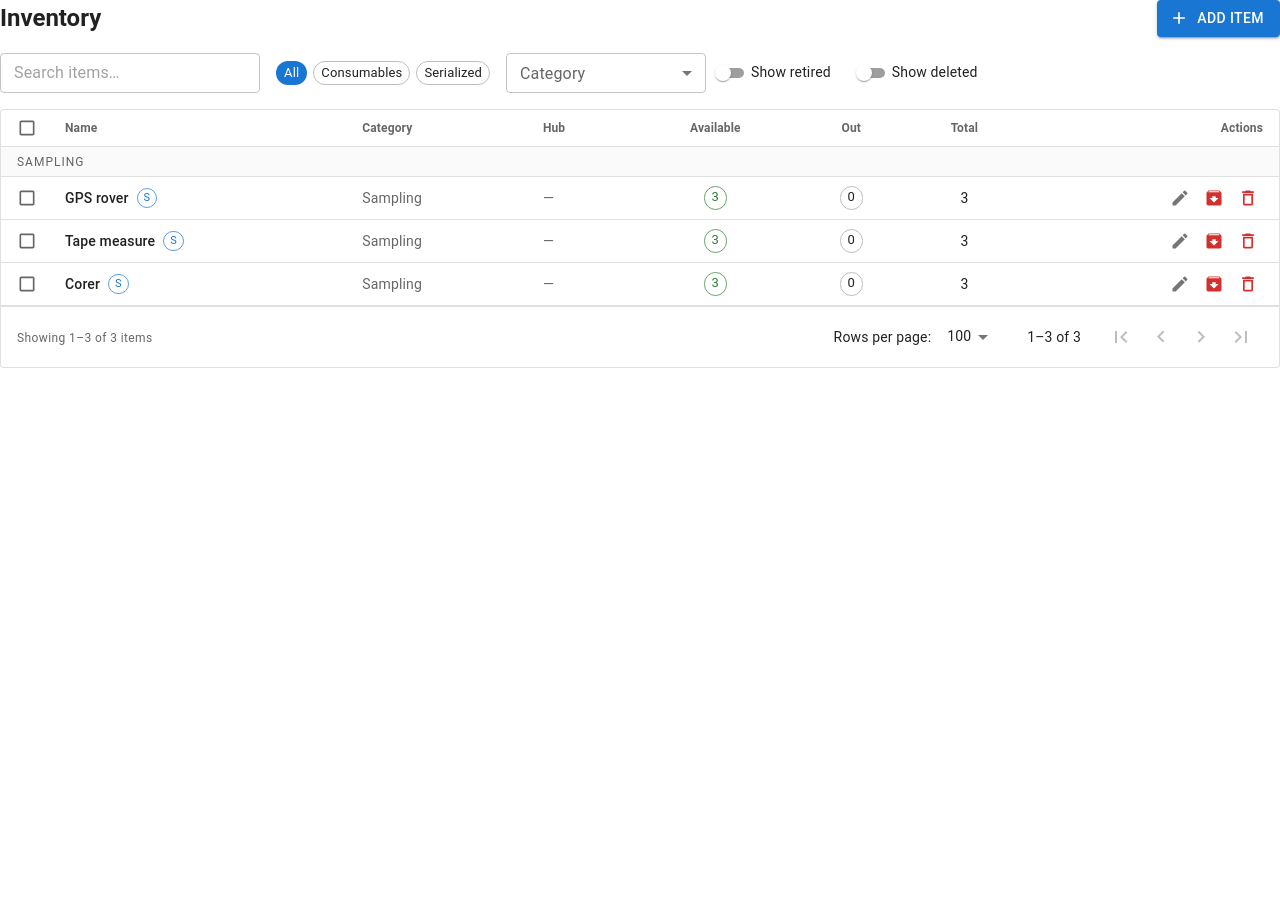
Test: Delete — the dialog, Undo and refusals (D-o · D-s) › a 409 is toasted verbatim
The image size is (1280, 900).
Check: the text "GPS rover" is shown, box [65,188,129,208]
Click the button named "Delete" in the row of "GPS rover".
click(1248, 198)  # box [1233,183,1263,213]
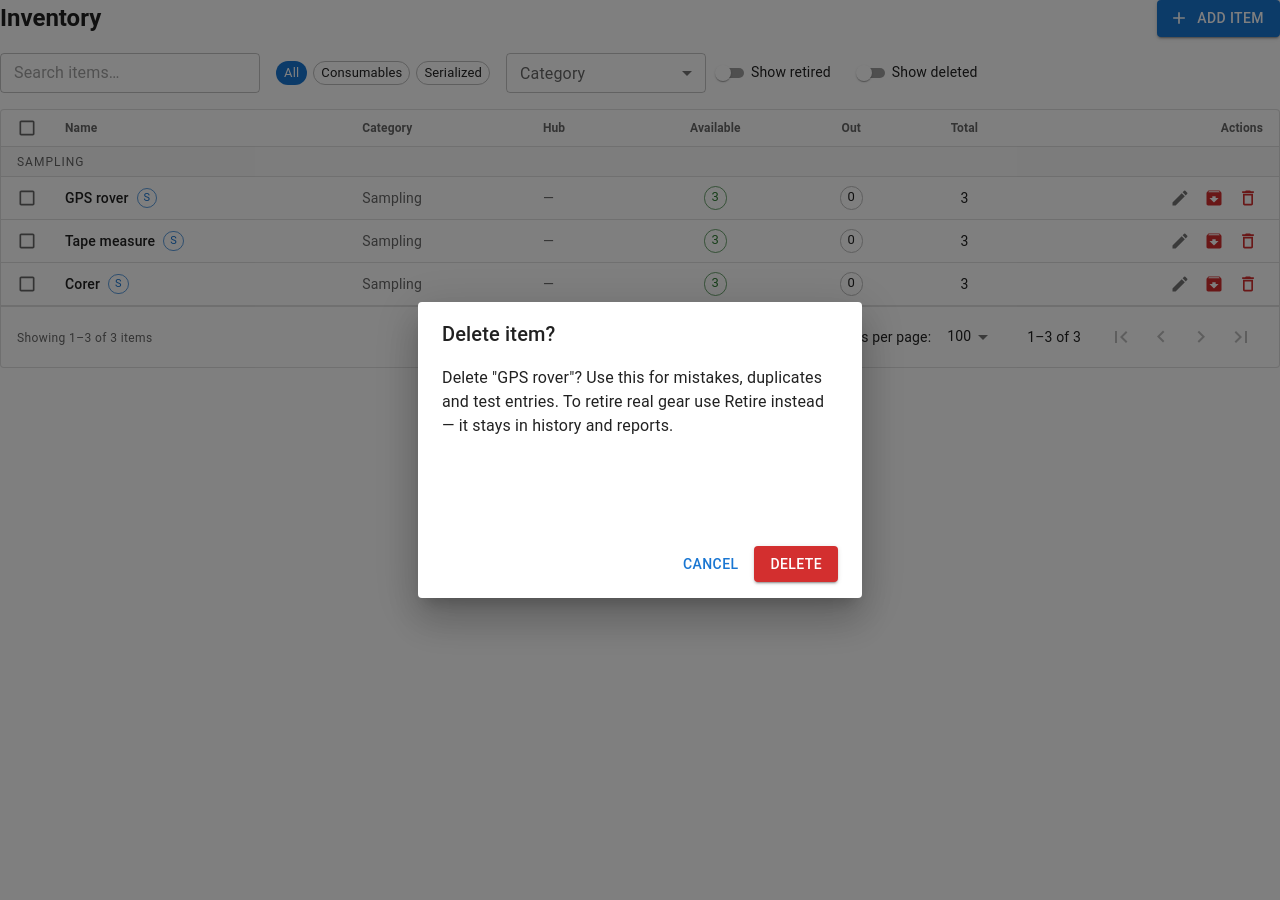
Click the button "Delete".
click(796, 564)  # box [754,546,838,582]
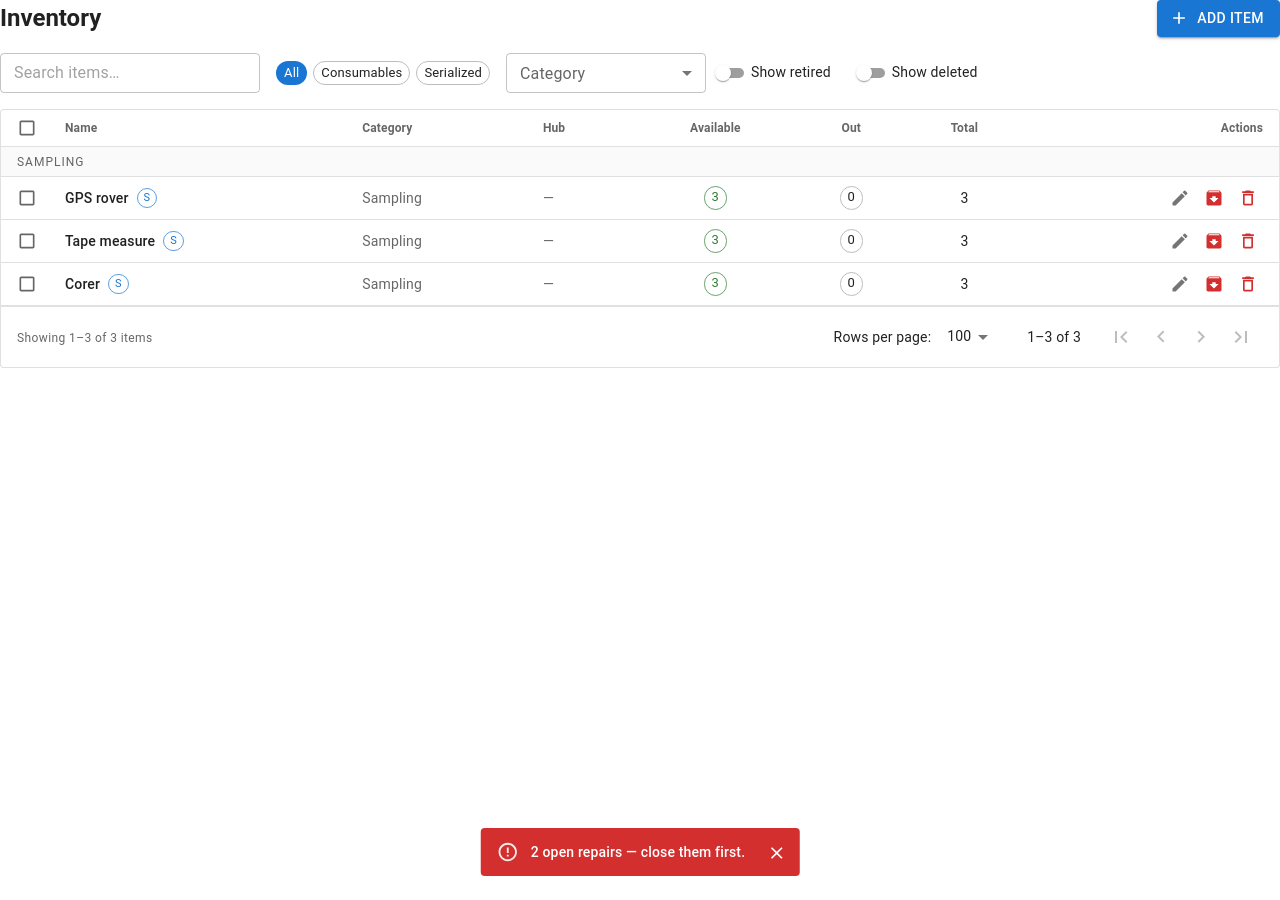
Check: the text "2 open repairs — close them first." is shown, box [531,844,745,860]
